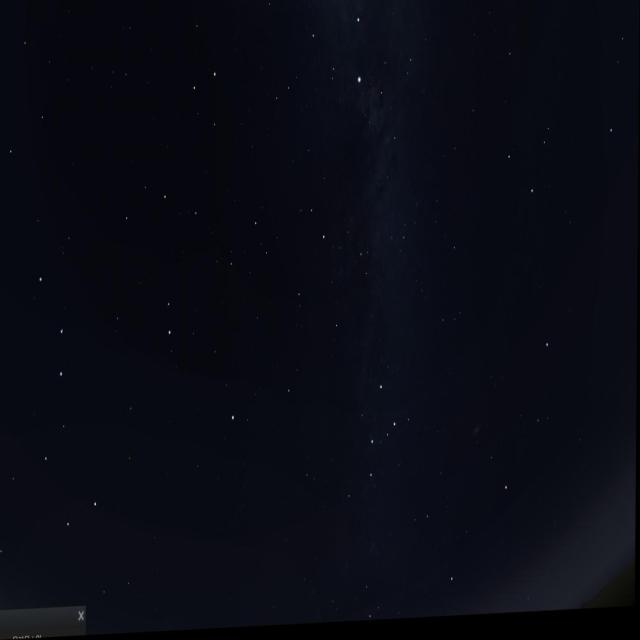cassiopeia: (343, 358, 413, 510)
cygnus: (304, 0, 416, 121)
ursa_major: (32, 261, 103, 537)
